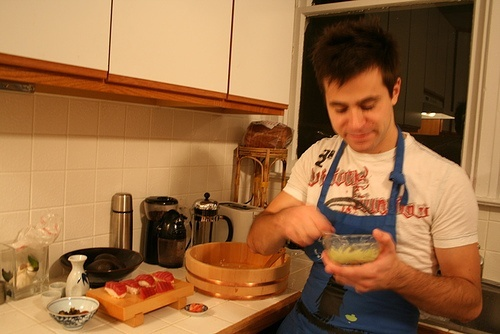head: (312, 22, 404, 153)
person: (240, 19, 480, 334)
